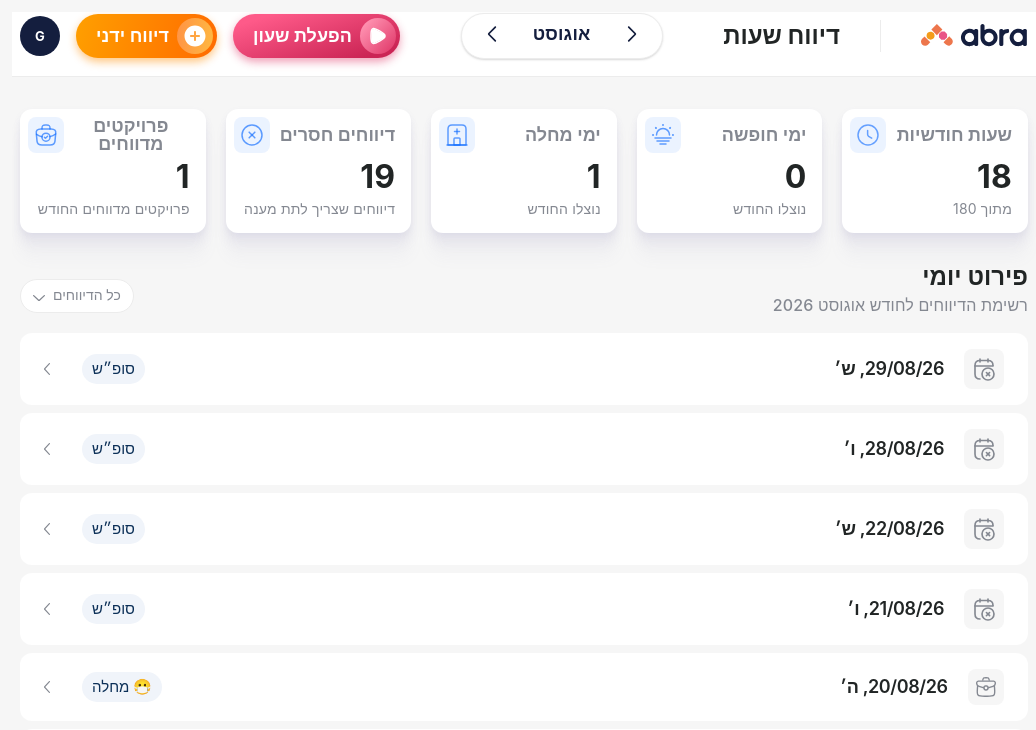
Scenario: Reports home shell › day-status filter › separates absence days by type
This screenshot has width=1036, height=730.
What coordinates should you click on to do the following:
click the button with test id "status-filter"
I would click on:
 (77, 296)
Its box is [20,279,134,313].
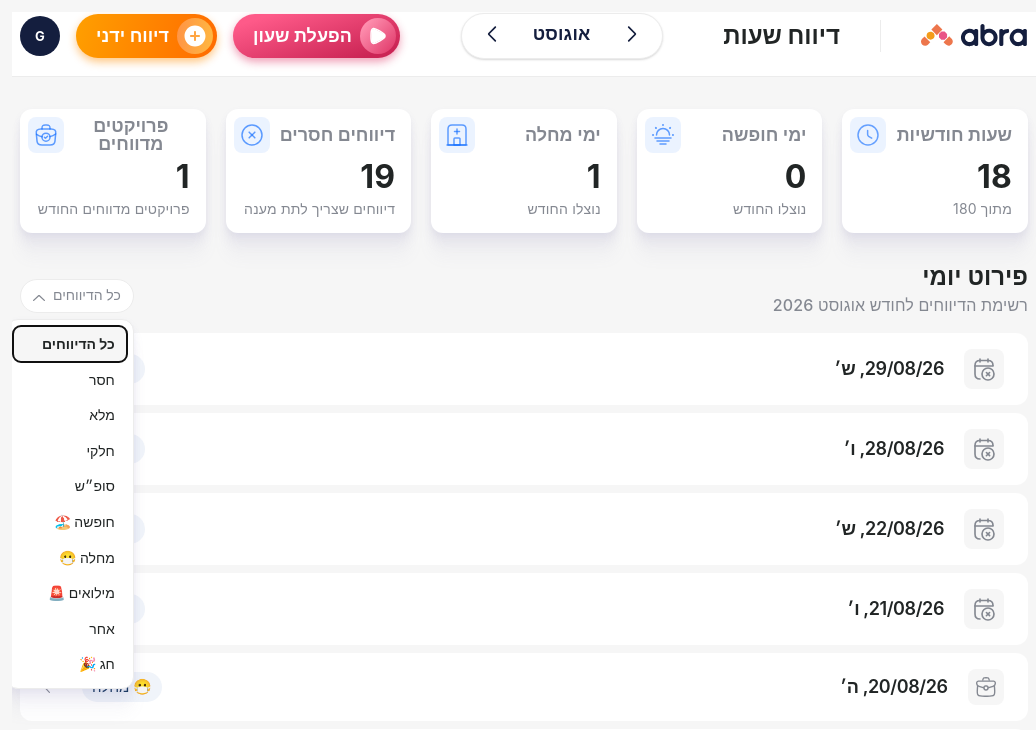
What coordinates should you click on to do the following:
click the option "מחלה 😷"
I would click on:
 (70, 557)
Its box is [13,540,127,575].
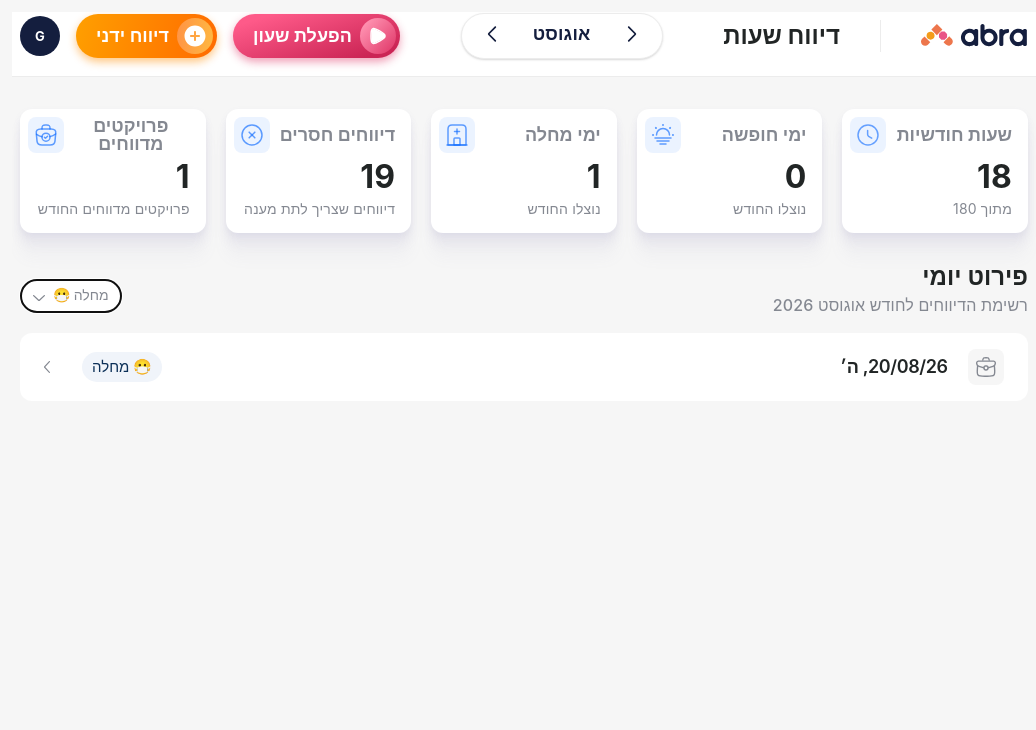
Expected: the button "20/08/26, ה׳ מחלה 😷" is shown, [20,333,1028,401]
Expected: the button with test id "status-filter" reads "מחלה 😷"
Expected: the option "סופ״ש" is gone
What coordinates should you click on to do the following:
click the button with test id "status-filter"
I would click on:
 (71, 296)
Its box is [20,279,122,313].
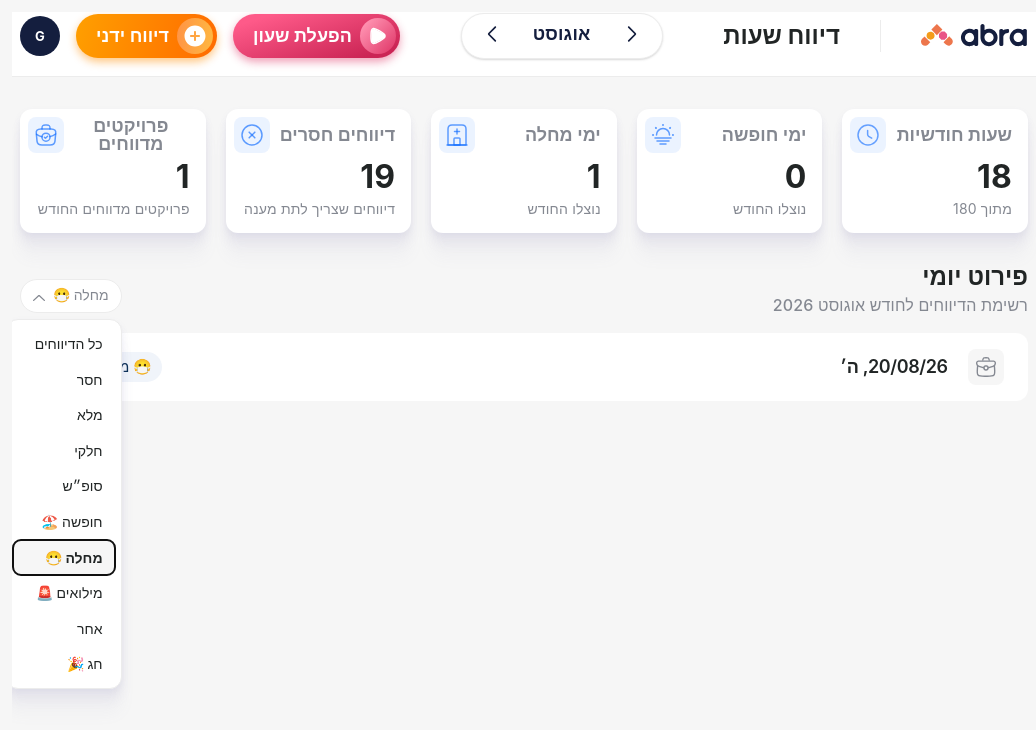
What coordinates should you click on to do the following:
click the option "חופשה 🏖️"
I would click on:
 (64, 522)
Its box is [13,504,115,540].
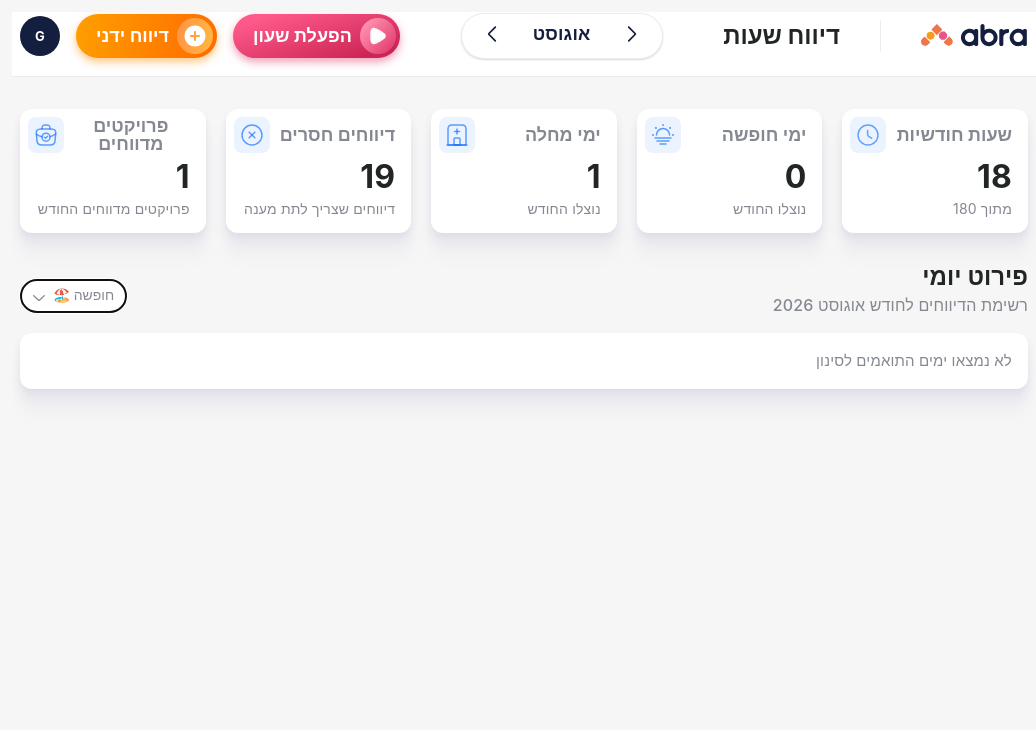
Expected: the text "לא נמצאו ימים התואמים לסינון" is shown, [20,333,1028,389]
